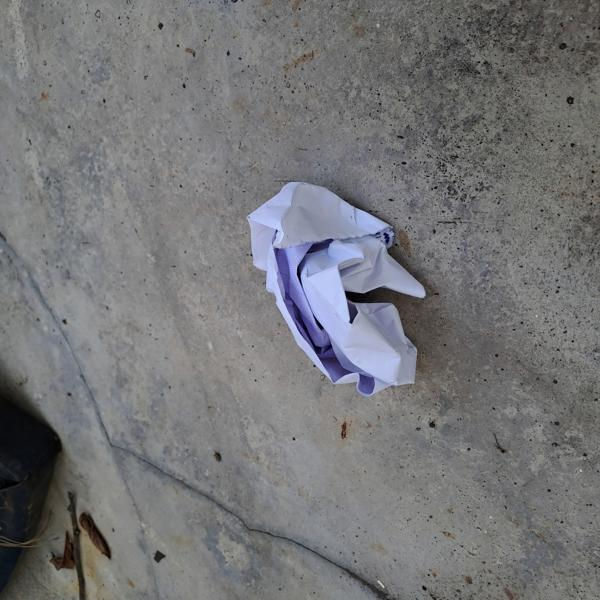Organik: (221, 164, 439, 417)
